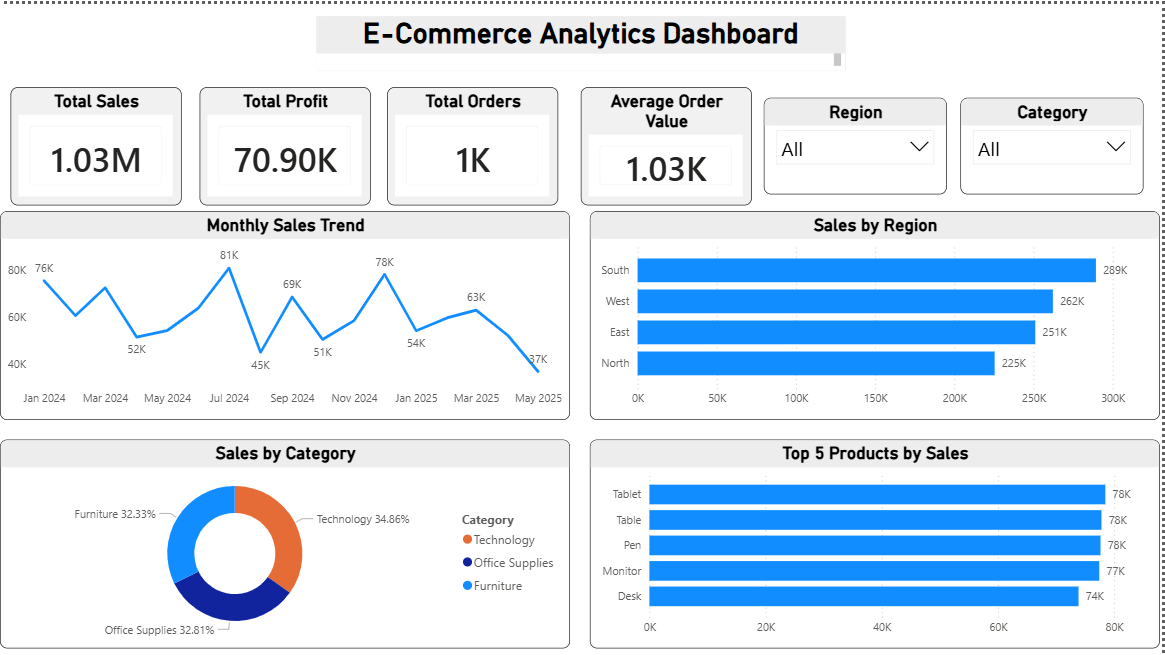

What the dashboard file says about the page in this screenshot:
{"tool":"powerbi","page":{"name":"Executive Overview","canvas":[1280,720],"ordinal":0},"visuals":[{"type":"cardVisual","title":"Total Sales","fields":{"Data":["Ecommerce_Data.Total Sales"]},"box":[11.7,91.7,188.3,130],"z":0},{"type":"cardVisual","title":"Average Order Value","fields":{"Data":["Ecommerce_Data.Average Order Value"]},"box":[640,91.7,188.3,130],"z":1000},{"type":"cardVisual","title":"Total Orders","fields":{"Data":["Ecommerce_Data.Total Orders"]},"box":[426.7,91.7,188.3,130],"z":2000},{"type":"cardVisual","title":"Total Profit","fields":{"Data":["Ecommerce_Data.Total Profit"]},"box":[220,91.7,188.3,130],"z":3000},{"type":"lineChart","title":"Monthly Sales Trend","fields":{"Y":["Ecommerce_Data.Total Sales"],"Category":["Ecommerce_Data.Order Date.Variation.Date Hierarchy.Year","Ecommerce_Data.Order Date.Variation.Date Hierarchy.Month"]},"box":[0,228.3,628.3,230],"z":4000},{"type":"clusteredBarChart","title":"Sales by Region","fields":{"Category":["Ecommerce_Data.Region"],"Y":["Ecommerce_Data.Total Sales"]},"box":[650,228.3,628.3,230],"z":5000},{"type":"donutChart","title":"Sales by Category","fields":{"Category":["Ecommerce_Data.Category"],"Y":["Ecommerce_Data.Total Sales"]},"box":[0,480,628.3,230],"z":6000},{"type":"slicer","title":"Region","fields":{"Values":["Ecommerce_Data.Region"]},"box":[841.7,103.3,201.7,106.7],"z":7000},{"type":"slicer","title":"Category","fields":{"Values":["Ecommerce_Data.Category"]},"box":[1058.3,103.3,201.7,106.7],"z":8000},{"type":"clusteredBarChart","title":"Top 5 Products by Sales","fields":{"Category":["Ecommerce_Data.Product Name"],"Y":["Ecommerce_Data.Total Sales"]},"box":[650,480,628.3,230],"z":9000},{"type":"textbox","title":"E-Commerce Analytics Dashboard","box":[348.3,13.3,583.3,60],"z":10000}]}

Visuals, with their boxes in screenshot pixels (x1, y1, x2, y2), scaled from the page's 1280x720 canvas onto the 1165x655 screenshot:
"Total Sales" cardVisual: 11 83 182 202
"Average Order Value" cardVisual: 582 83 754 202
"Total Orders" cardVisual: 388 83 560 202
"Total Profit" cardVisual: 200 83 372 202
"Monthly Sales Trend" lineChart: 0 208 572 417
"Sales by Region" clusteredBarChart: 592 208 1163 417
"Sales by Category" donutChart: 0 437 572 646
"Region" slicer: 766 94 950 191
"Category" slicer: 963 94 1147 191
"Top 5 Products by Sales" clusteredBarChart: 592 437 1163 646
"E-Commerce Analytics Dashboard" textbox: 317 12 848 67
